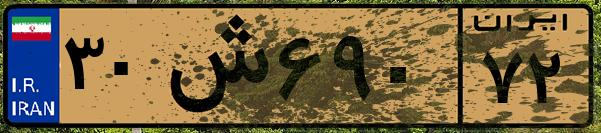0: (385, 28, 445, 110), (110, 28, 158, 98)
2: (525, 38, 570, 115)
3: (57, 26, 110, 100)
6: (270, 28, 330, 110)
7: (475, 38, 525, 113)
9: (330, 28, 385, 110)
ش: (158, 12, 270, 120)
